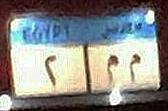2: (42, 54, 58, 87)
meem: (103, 53, 120, 85), (128, 51, 143, 87)
